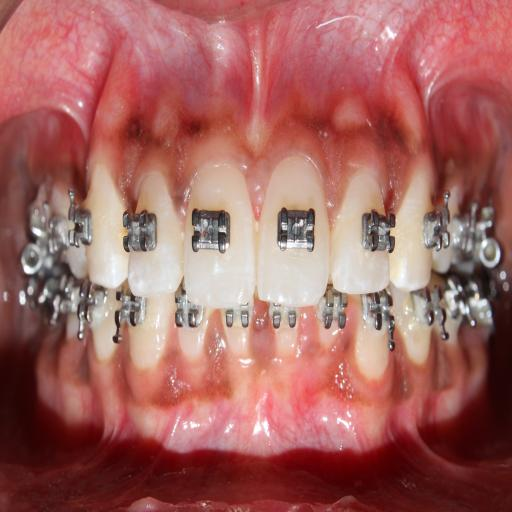correct_brace: (191, 202, 234, 262), (273, 202, 319, 257), (359, 200, 396, 264), (122, 207, 158, 255)
incorrect_brace: (332, 169, 402, 295), (121, 168, 183, 296)
